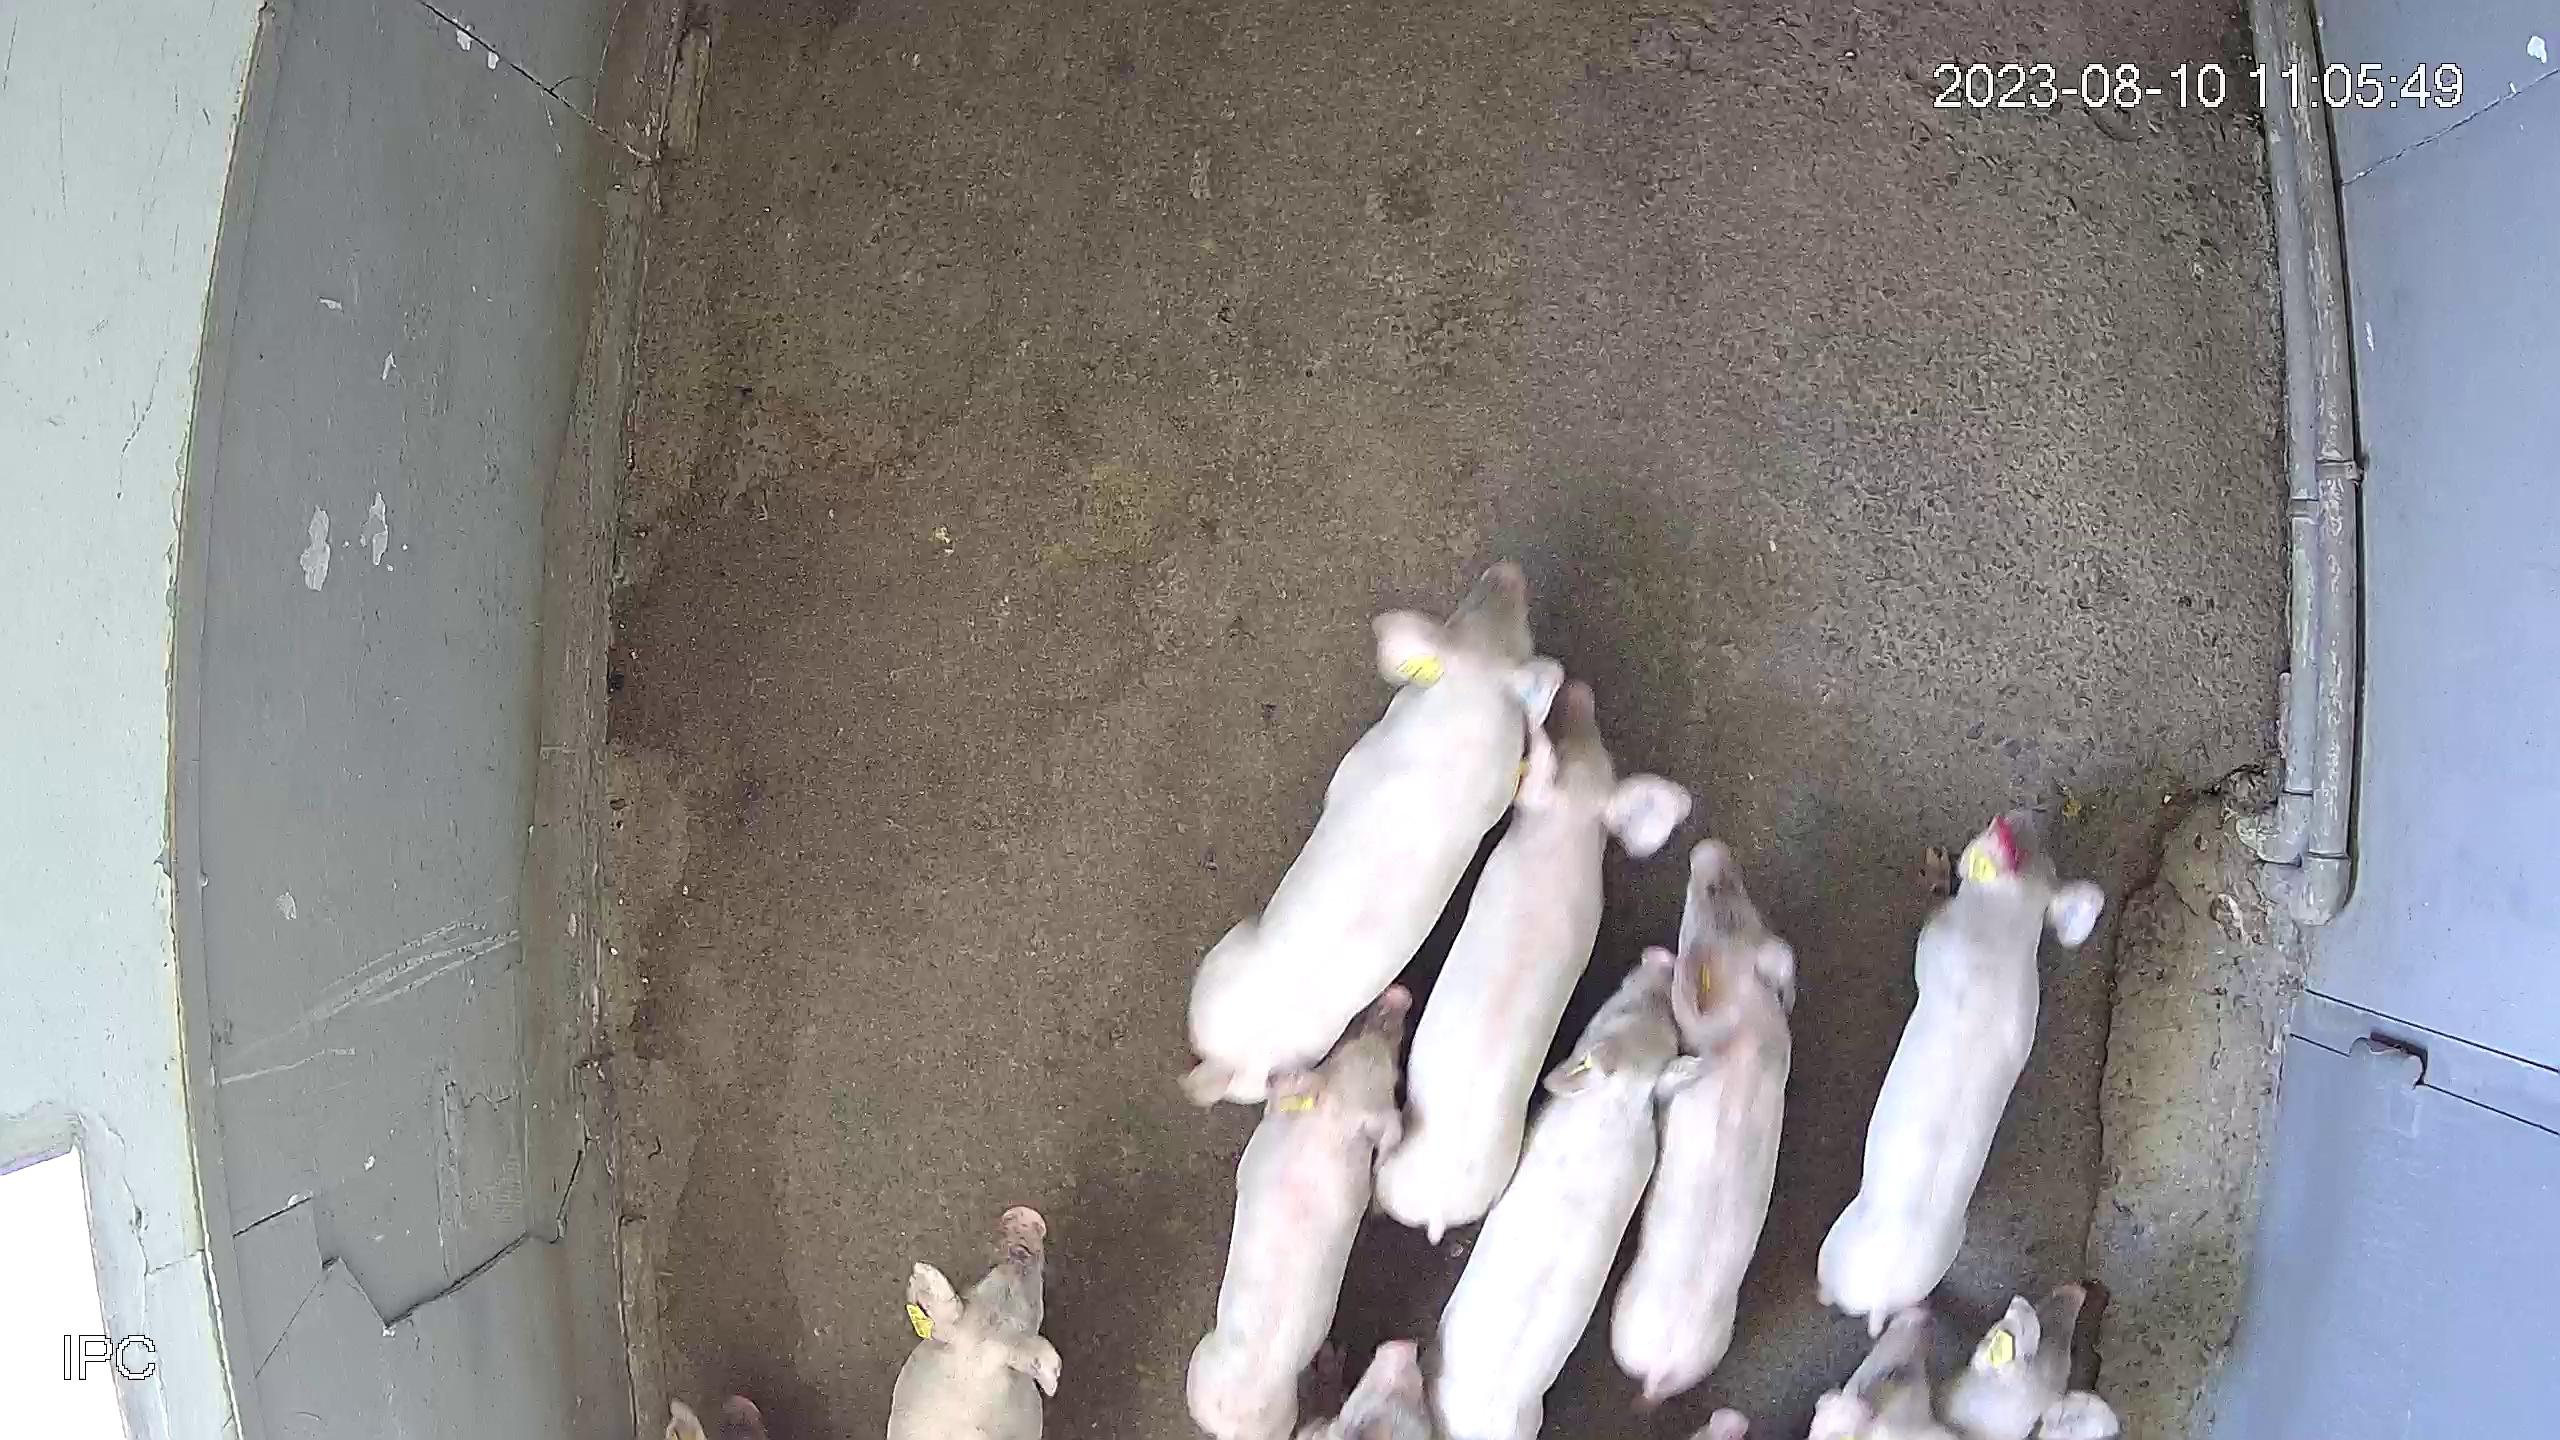Pig: (1182, 559, 1565, 1104), (1378, 680, 1693, 1243), (1822, 809, 2108, 1335), (1435, 944, 1681, 1440), (1612, 839, 1799, 1408), (1187, 985, 1412, 1440), (886, 1208, 1060, 1440), (1943, 1284, 2124, 1440), (1811, 1305, 1960, 1440), (1320, 1340, 1435, 1440)
